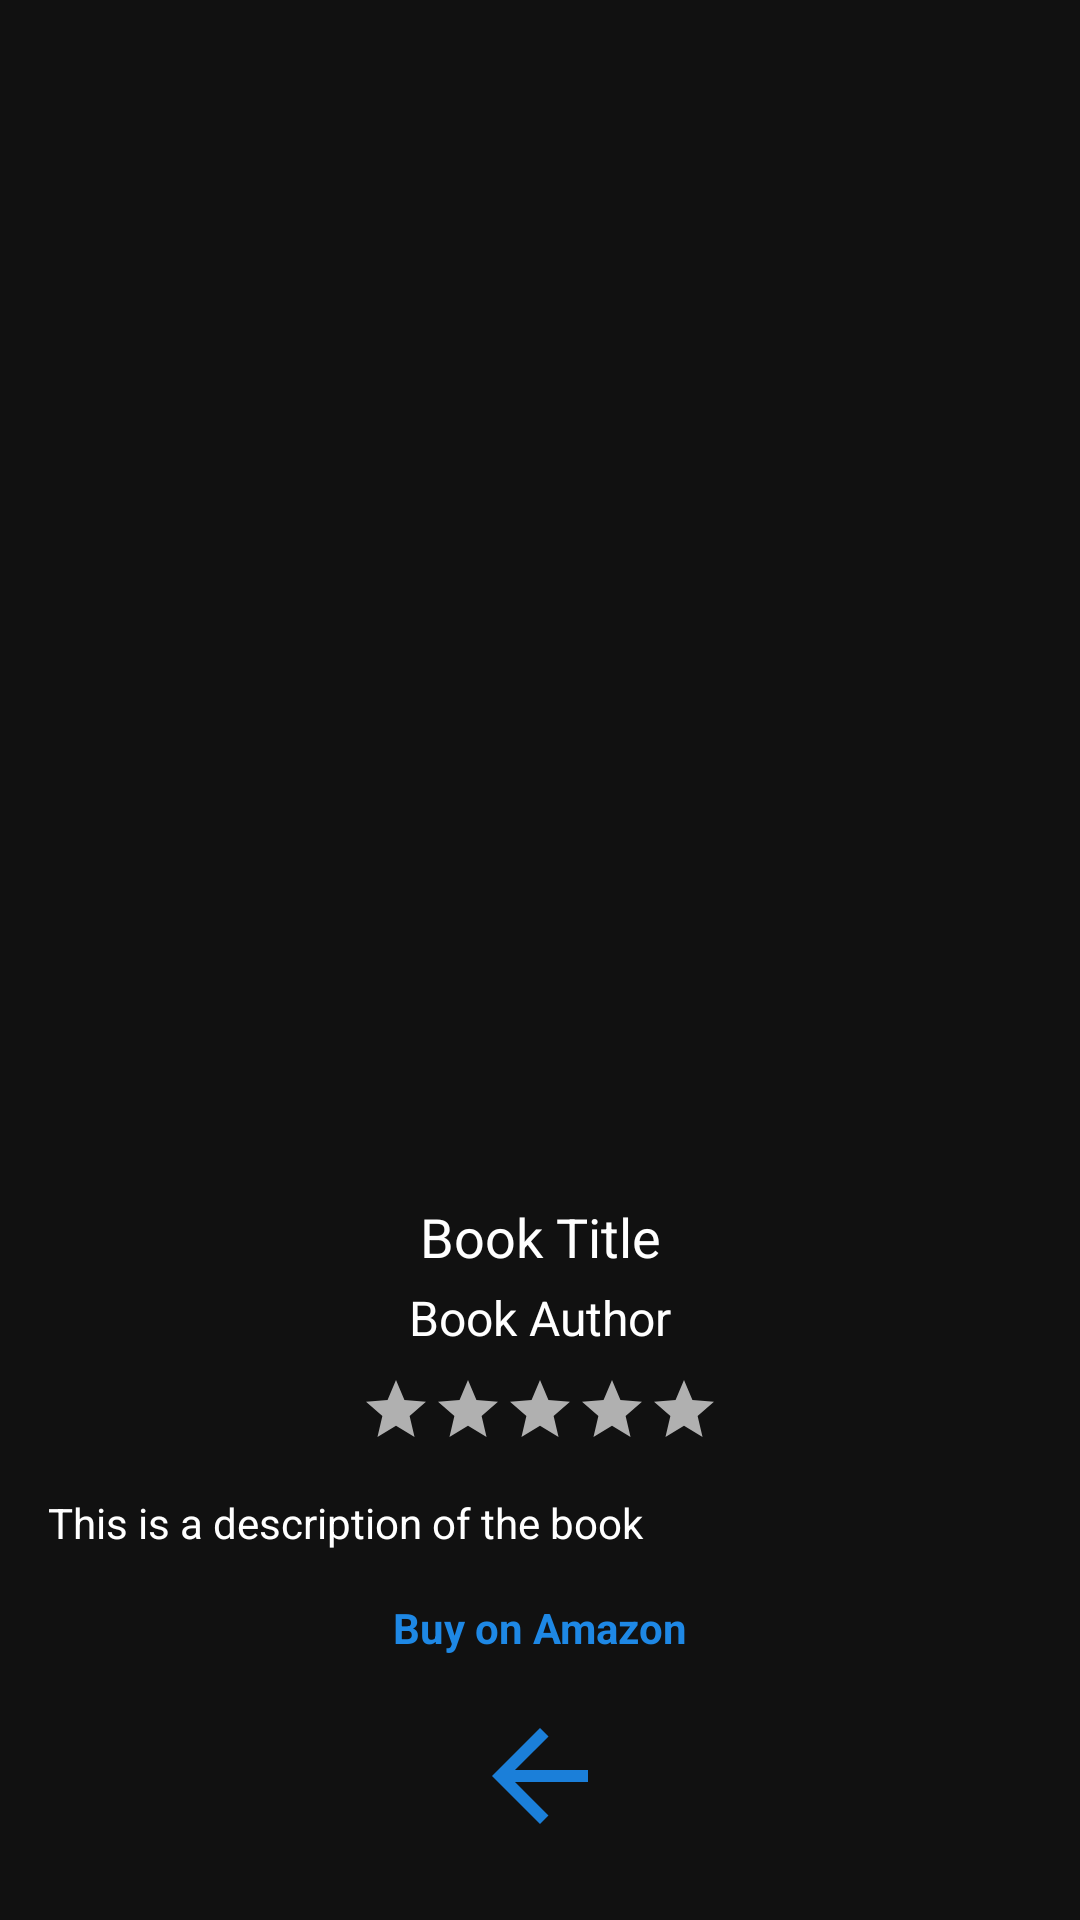

Where to tap for icons on this 1080*1920 app screen, as point (x, y):
Back: point (540, 1776)
star empty: point (396, 1408), point (468, 1408), point (540, 1408), point (612, 1408), point (684, 1408)
